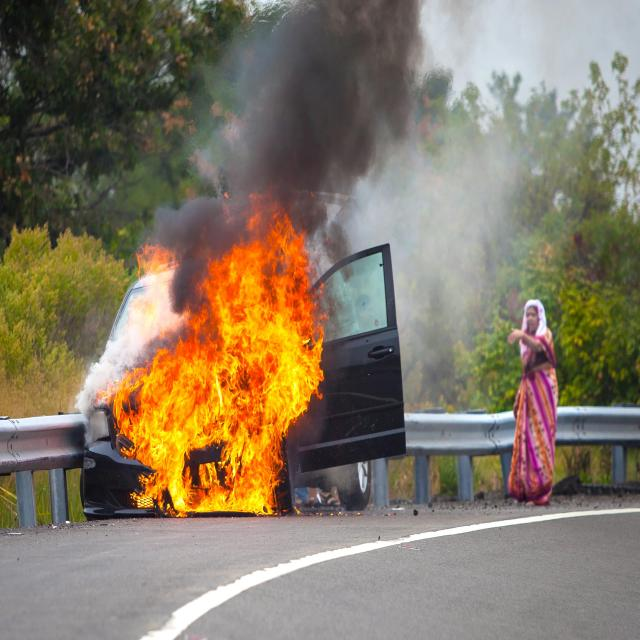fire: (95, 197, 325, 519), (136, 240, 177, 279)
